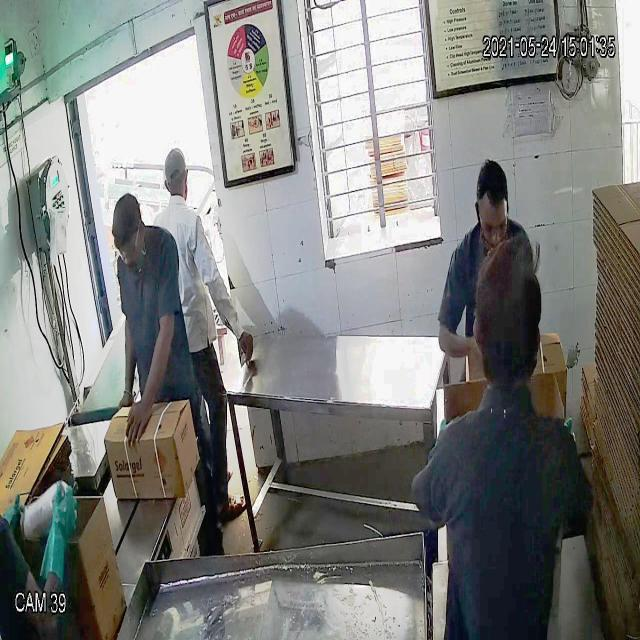glasses: (474, 210, 512, 244), (111, 233, 145, 262)
